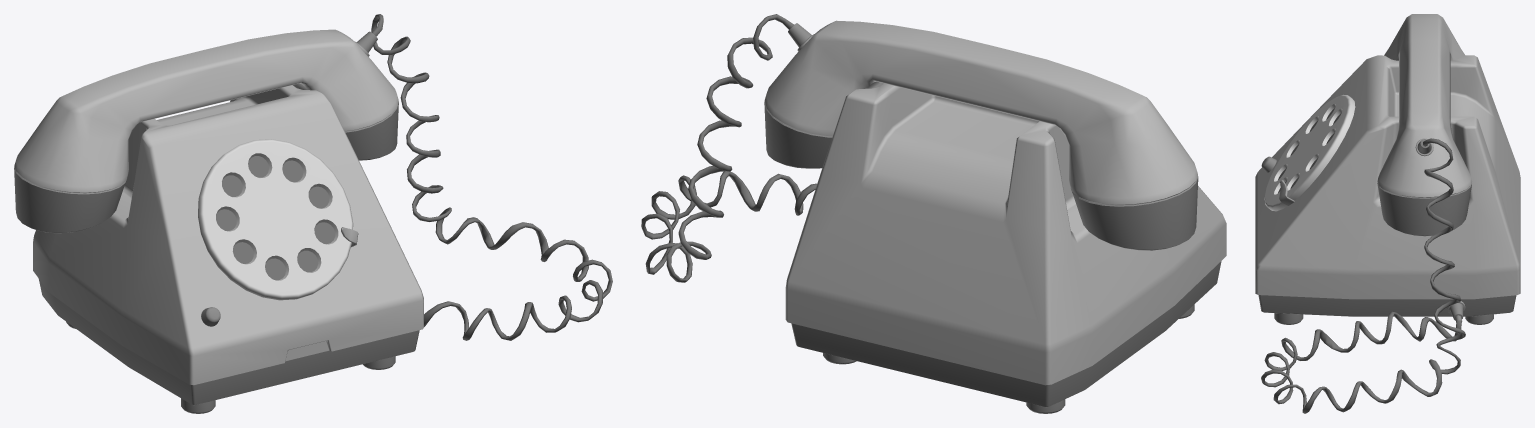
File: phone-transformed.glb
3 views of the same model, side by side, from view 1: azimuth 30°, elevation 25°; view 2: azimuth 150°, elevation 25°; view 3: azimuth 270°, elevation 25° (orthographic). The views are drawn at different scales.
Visible parts, largest first — view 1: FMB_Retro Phone_01_BW_01_0; view 2: FMB_Retro Phone_01_BW_01_0; view 3: FMB_Retro Phone_01_BW_01_0.
Boxes of the visible parts, x1,y1,x2,y2 form: FMB_Retro Phone_01_BW_01_0: (14, 14, 612, 413); FMB_Retro Phone_01_BW_01_0: (641, 14, 1226, 413); FMB_Retro Phone_01_BW_01_0: (1255, 14, 1520, 413).
Bounding box in the file's own units: 0.5143 × 0.2577 × 0.2728.
1 material, 1 textured.
